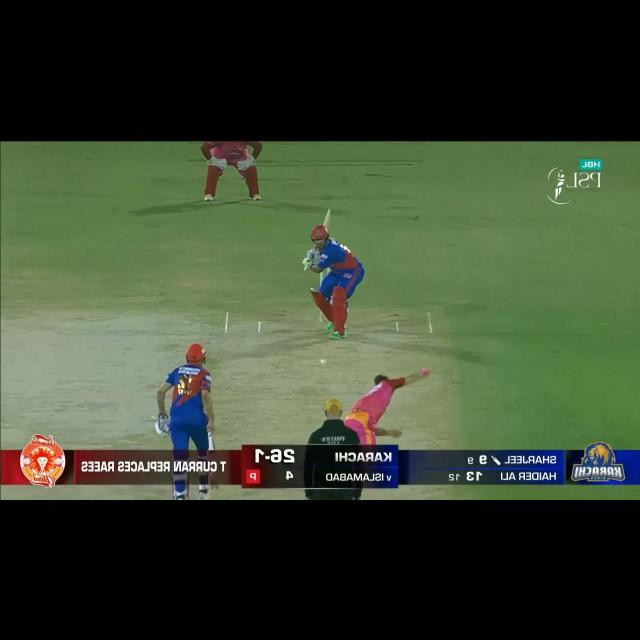bat: (306, 207, 334, 264)
toe: (323, 209, 334, 226), (210, 484, 219, 489)
